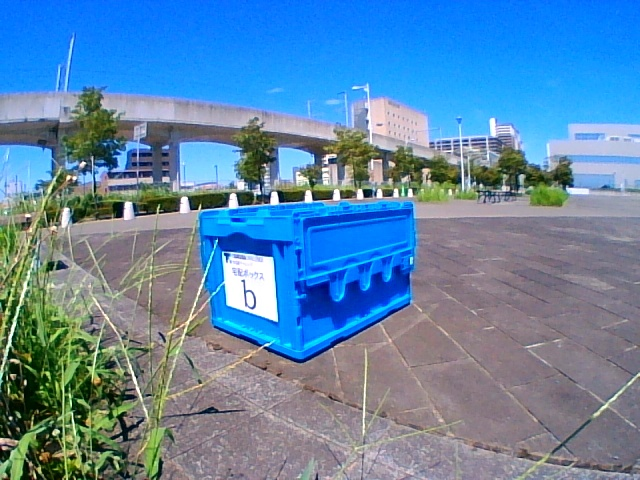blue_box: (211, 208, 379, 324)
tag_b: (239, 265, 274, 311)
